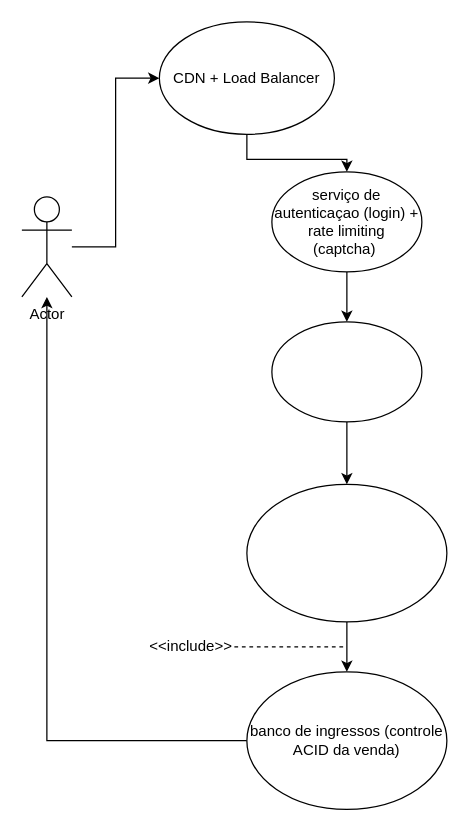
Image size: 469x831. Some labels were removed from this diagram. Here are the shapes that lost their labels. From the top down, the centre of each, then its label:
At point (346, 371): "fila distribuida".
At point (346, 552): "serviço de compra de ingressos (verifica token valido e quantidade disponivel)".
